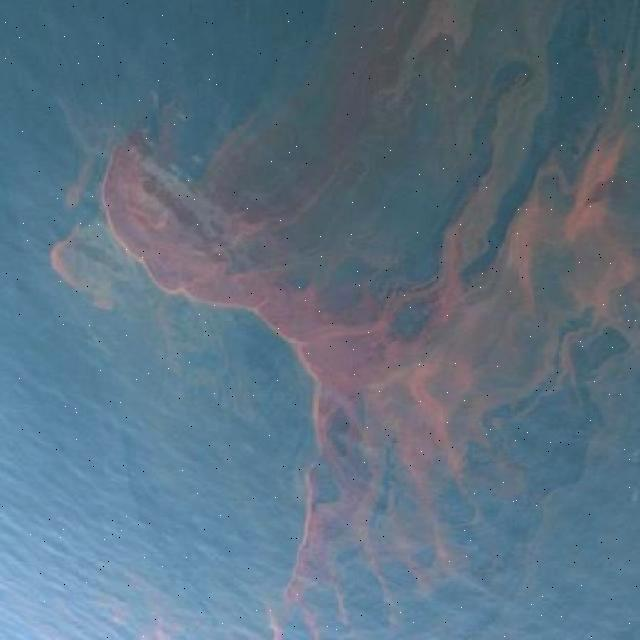oil: (49, 12, 638, 640)
